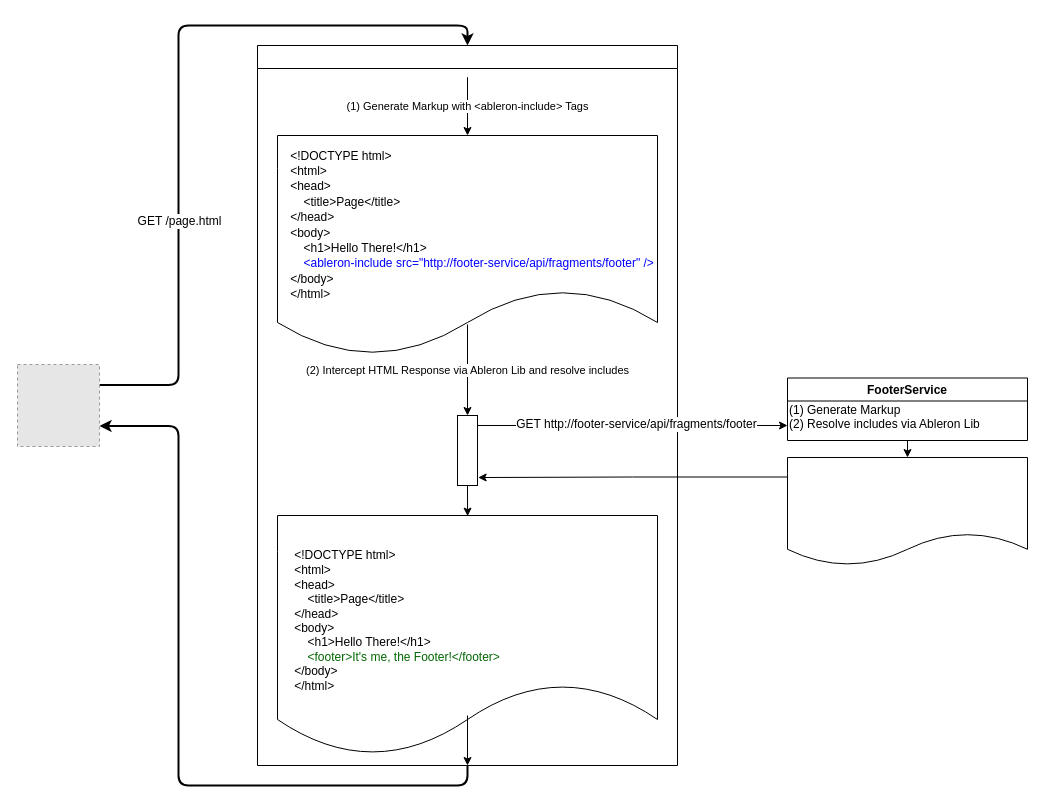
Some shapes in this 1045 by 811 pixel diagram are drawn without their labels. Grey dashed boxes stand in for pictures. The box of each missing label's shape, as (x1, y1, x2, y2) in pixels:
<footer>It's me, the Footer!</footer>: (786, 456, 1028, 566)
YourService: (256, 44, 678, 766)
